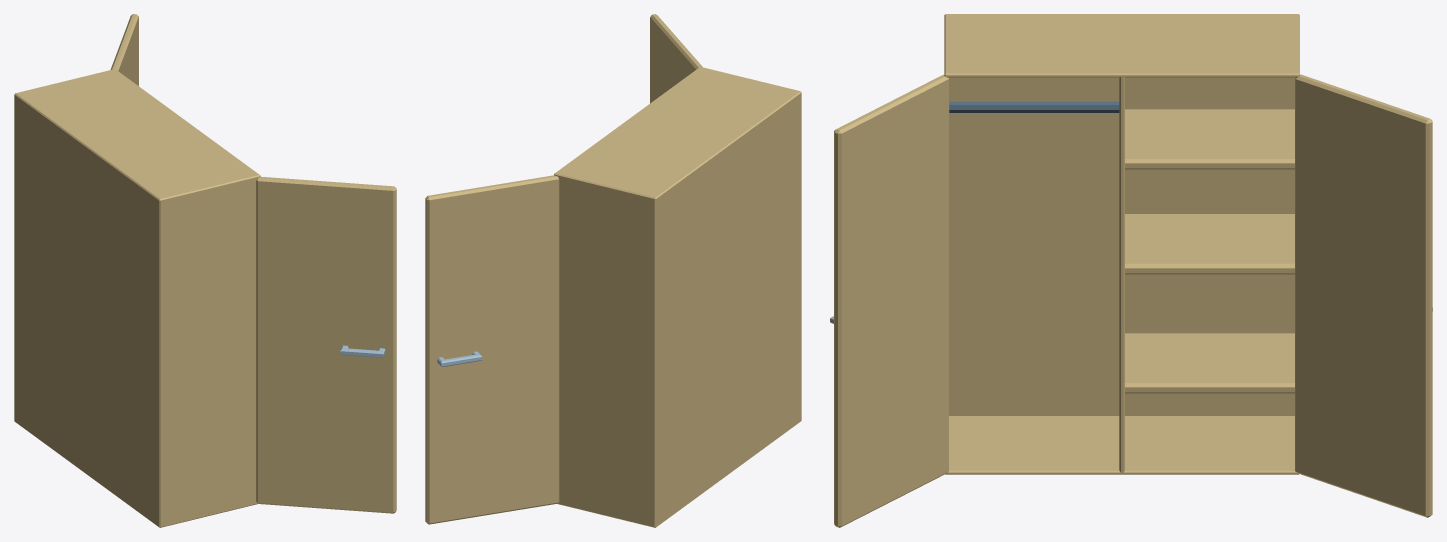
The model's file is SM_CupboardOpen.fbx.
The picture shows the model from 3 angles, left to right: view 1: azimuth 30°, elevation 25°; view 2: azimuth 150°, elevation 25°; view 3: azimuth 270°, elevation 25°; orthographic projection. The views are drawn at different scales.
Visible parts, largest first — view 1: Cube.029; view 2: Cube.029; view 3: Cube.029.
Boxes of the visible parts, <box> form: Cube.029: <box>14,14,396,527</box>; Cube.029: <box>425,14,801,527</box>; Cube.029: <box>830,14,1432,527</box>.
Size of the model in its own units: 265 by 120 by 195.
